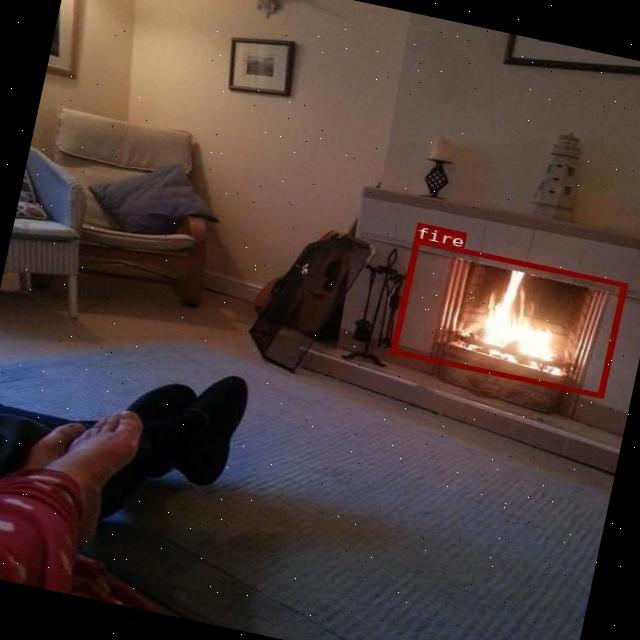fire: (388, 236, 626, 398)
